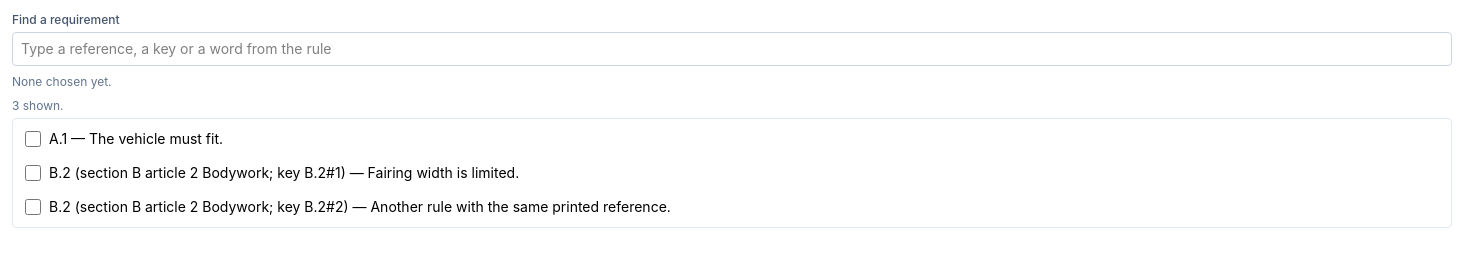
Test: RequirementPicker › selects several requirements and keeps clause_key as the value
What coordinates should you click on to do the following:
click the checkbox labelled "A.1 — The vehicle must fit."
I would click on:
 (33, 139)
Its box is left=25, top=131, right=41, bottom=147.
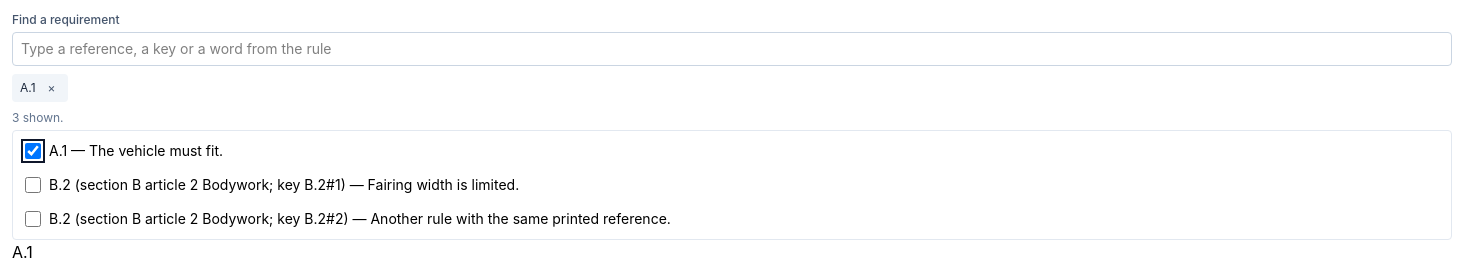
What coordinates should you click on to do the following:
click the checkbox labelled "Fairing width"
I would click on:
 (33, 185)
Its box is left=25, top=177, right=41, bottom=193.
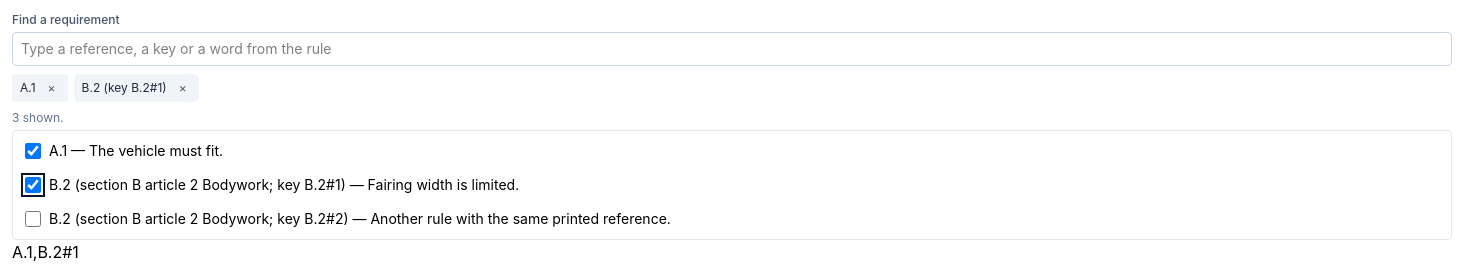
Check: the text with test id "value" reads "A.1,B.2#1", box left=12, top=242, right=79, bottom=262
